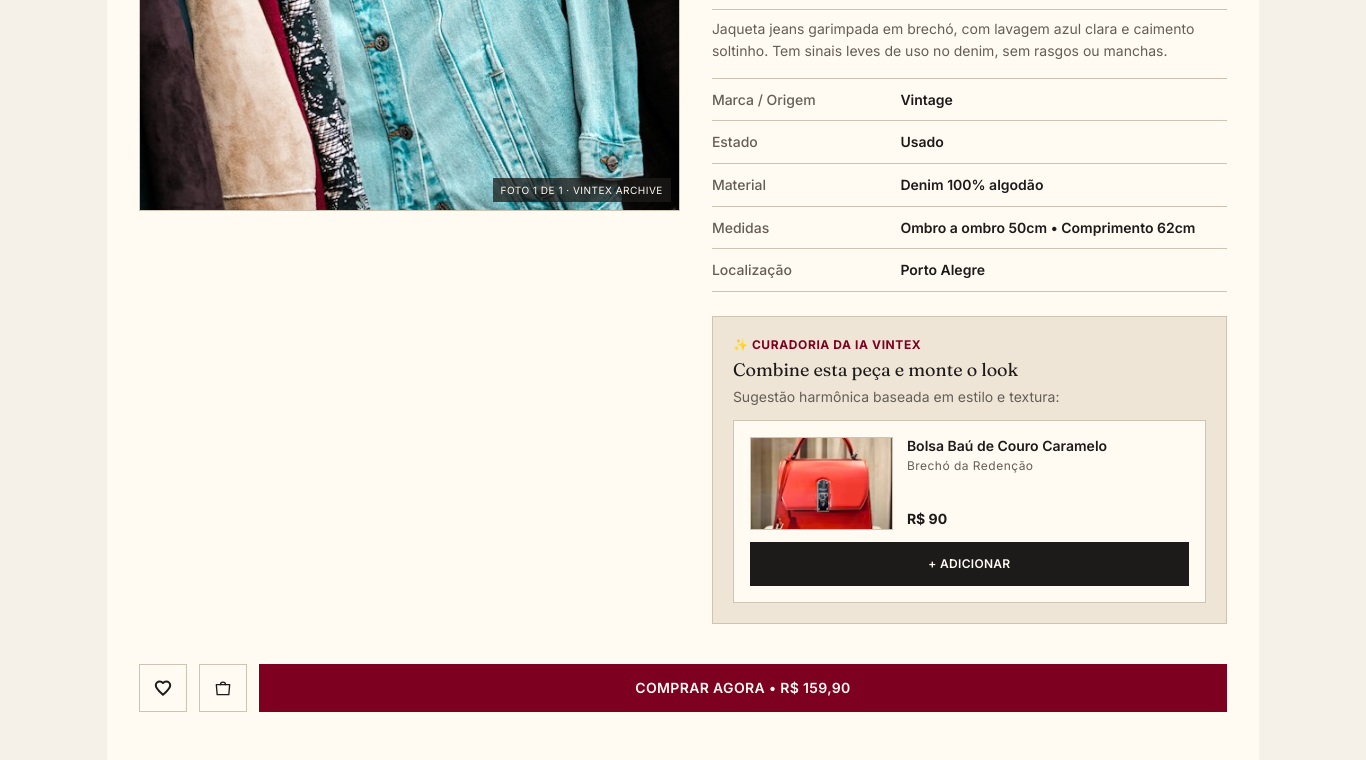
Test case: <ProductDetail /> › barreira de login (FE-US012-5, #88) › na barreira, "Agora não" fecha sem navegar
(page scrolled)
Click the button named "Adicionar aos favoritos": (163, 688) [141,666,185,710]
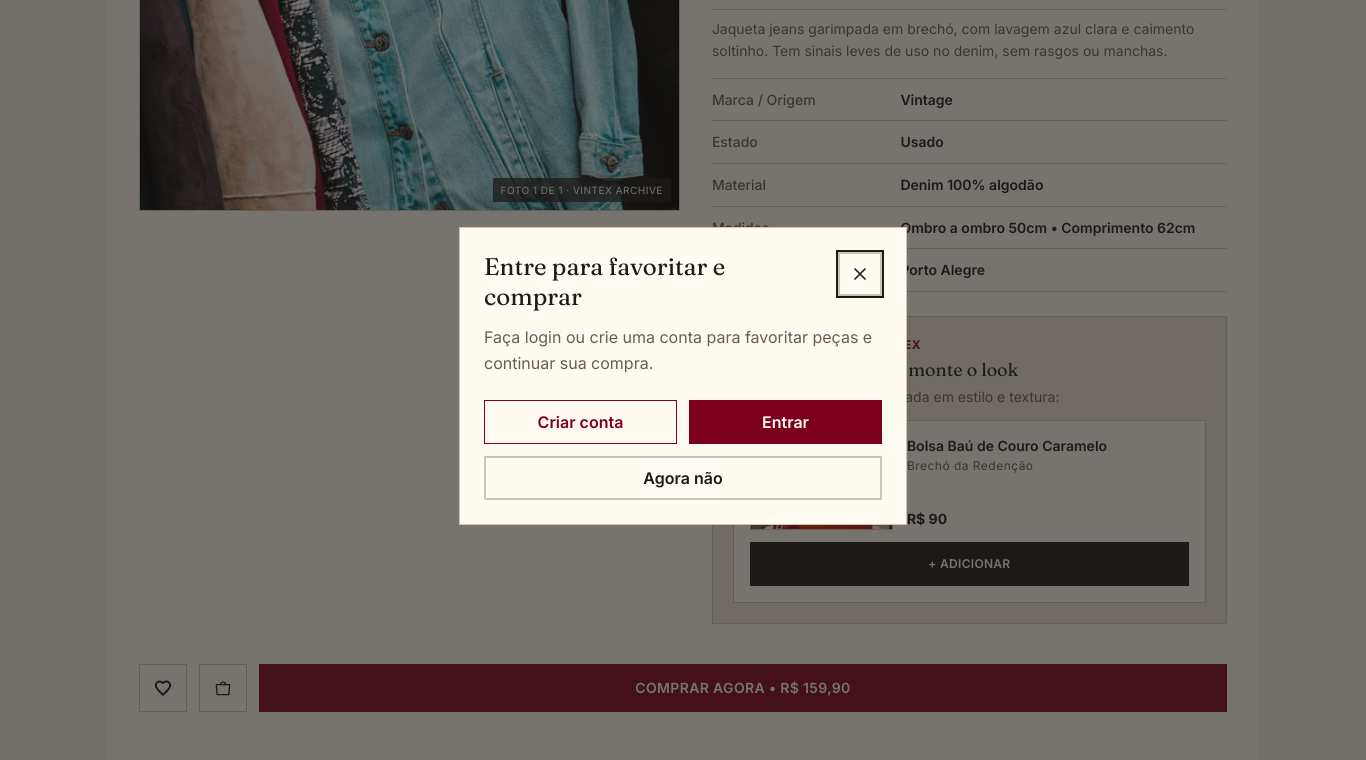
Result: the dialog is shown at [459,227,907,525]
Click the button "Agora não": (683, 478) [484,456,882,500]
(page scrolled)
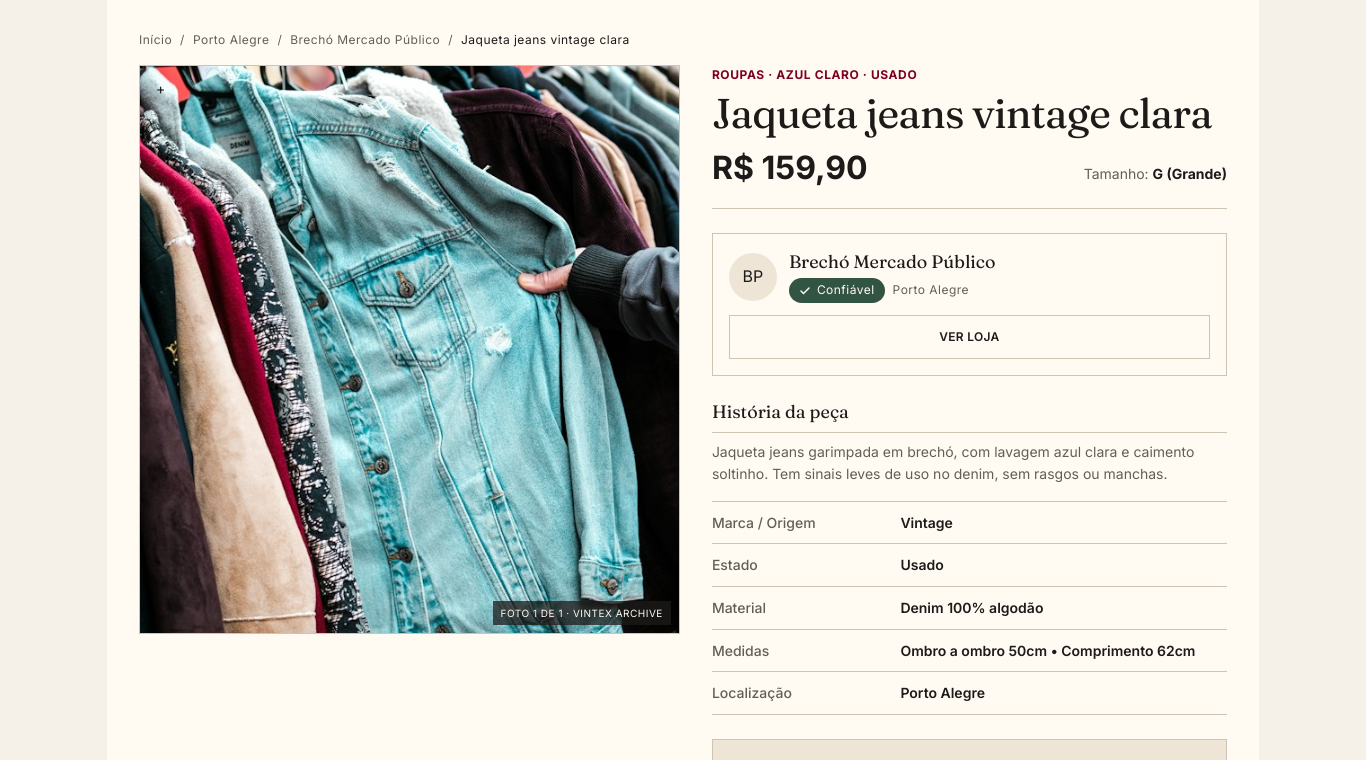
Expected: the heading "Jaqueta jeans vintage clara" is shown, [712,92,1227,136]
Result: the dialog is gone
